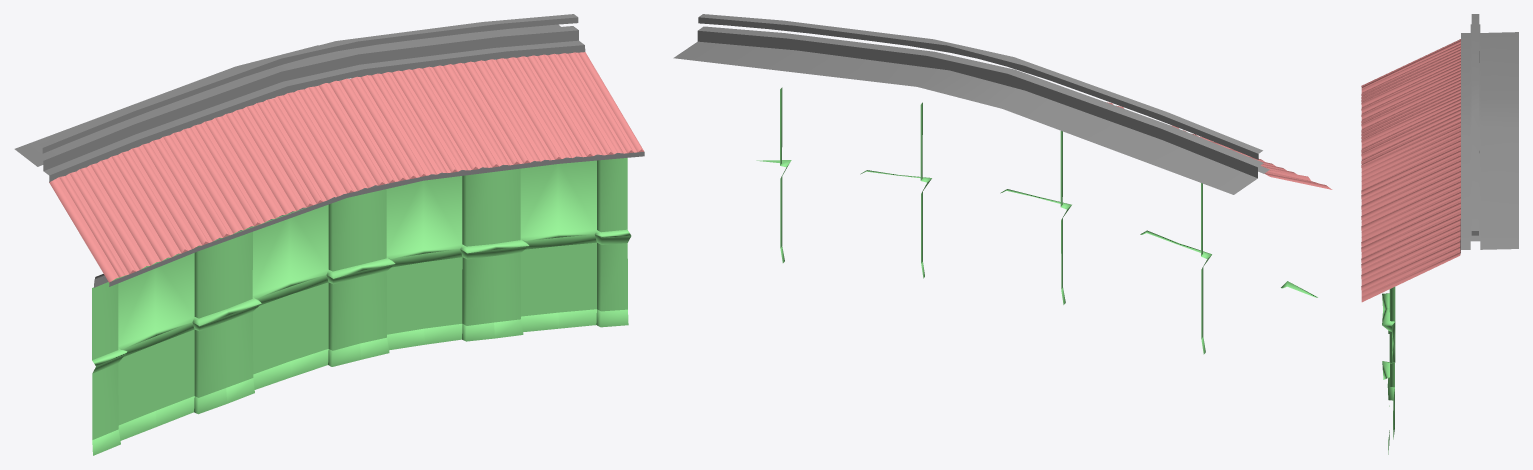
The model's file is LV_Terny_Rosso_BridgeDeco02_SM_EYE_Lod1.gltf.
3 views of the same model, side by side, from view 1: azimuth 30°, elevation 25°; view 2: azimuth 150°, elevation 25°; view 3: azimuth 270°, elevation 25° (orthographic). The views are drawn at different scales.
Parts seen in each view (by area): view 1: LV_Terny_Rosso_BridgeDeco02_SM_EYE_Lod1; view 2: LV_Terny_Rosso_BridgeDeco02_SM_EYE_Lod1; view 3: LV_Terny_Rosso_BridgeDeco02_SM_EYE_Lod1.
Part boxes in pixels (box(x1,y1,x2,y2)): LV_Terny_Rosso_BridgeDeco02_SM_EYE_Lod1: box(14, 14, 644, 455); LV_Terny_Rosso_BridgeDeco02_SM_EYE_Lod1: box(673, 14, 1332, 354); LV_Terny_Rosso_BridgeDeco02_SM_EYE_Lod1: box(1361, 14, 1518, 454).
Bounding box in the file's own units: 4.8 × 2.59 × 1.48.
